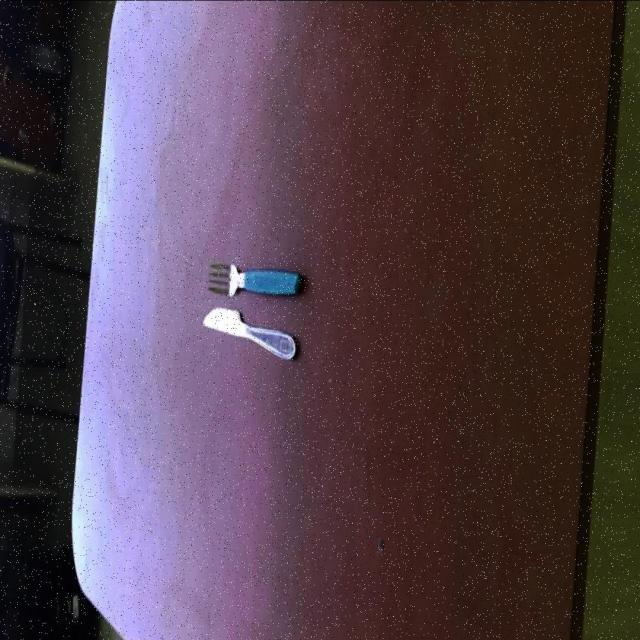Fork: (206, 260, 302, 296)
Knife: (202, 304, 296, 359)
